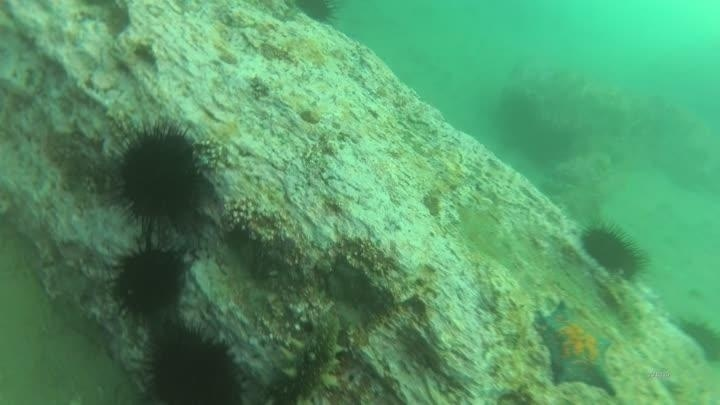echinus: (110, 120, 207, 233), (138, 321, 246, 405), (109, 238, 190, 323), (577, 220, 649, 283), (670, 314, 720, 367), (291, 1, 340, 26)
holothurian: (263, 305, 349, 402), (597, 274, 653, 341)
starfish: (531, 298, 621, 398)
